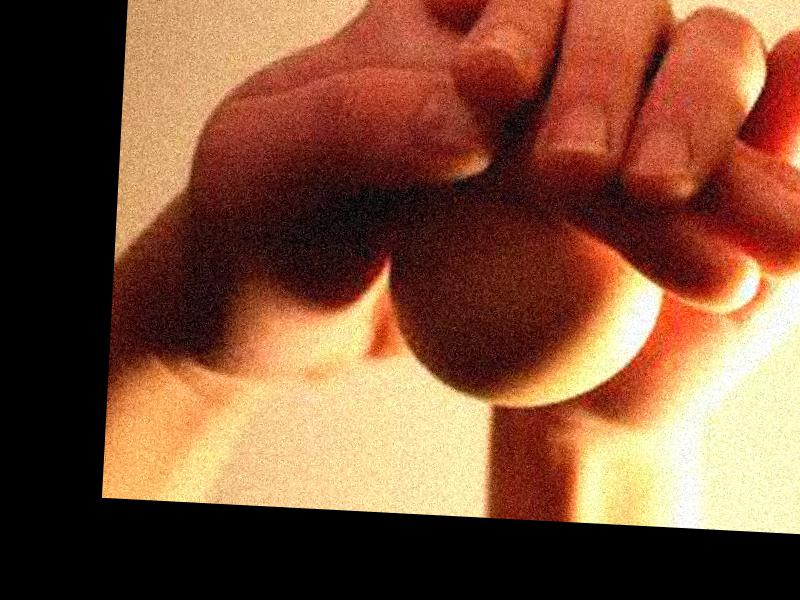Eggs: (380, 190, 667, 414)
